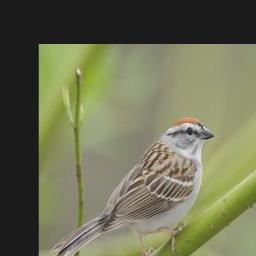Sparrow: (49, 116, 217, 256)
